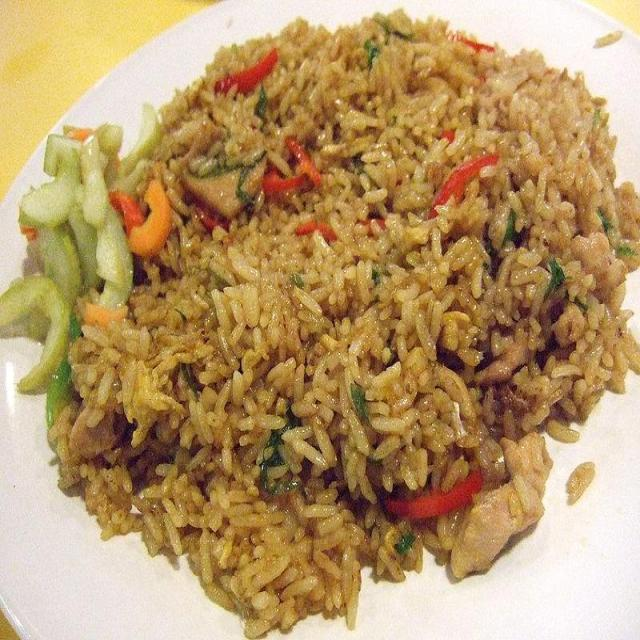Nasi Goreng: (42, 9, 636, 634)
